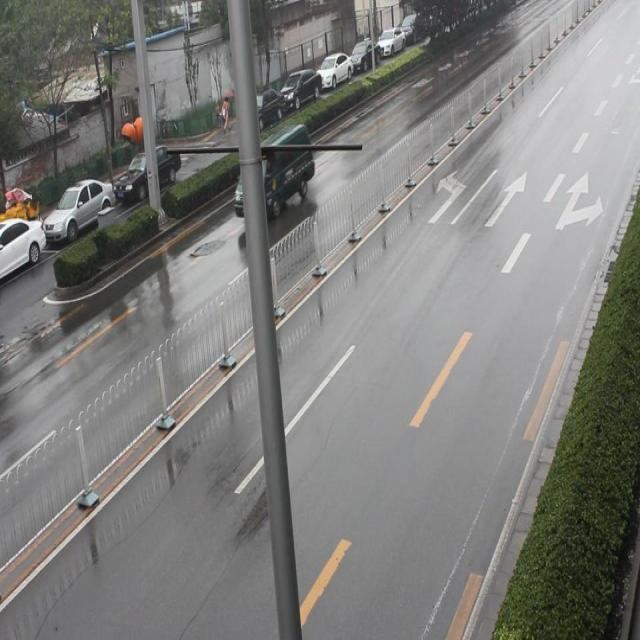truck: (230, 121, 312, 220)
